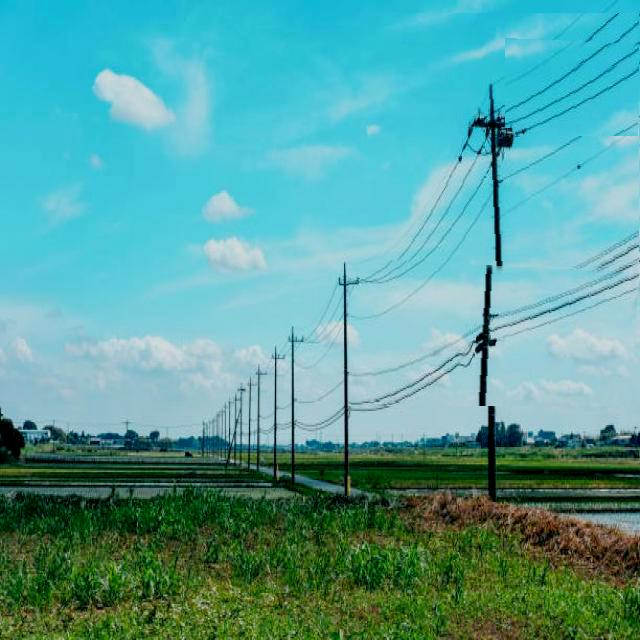crossarm: (469, 125, 512, 144)
pole: (485, 122, 501, 385)
wire: (377, 13, 626, 284), (349, 271, 639, 406), (505, 44, 640, 128), (515, 67, 639, 136)
